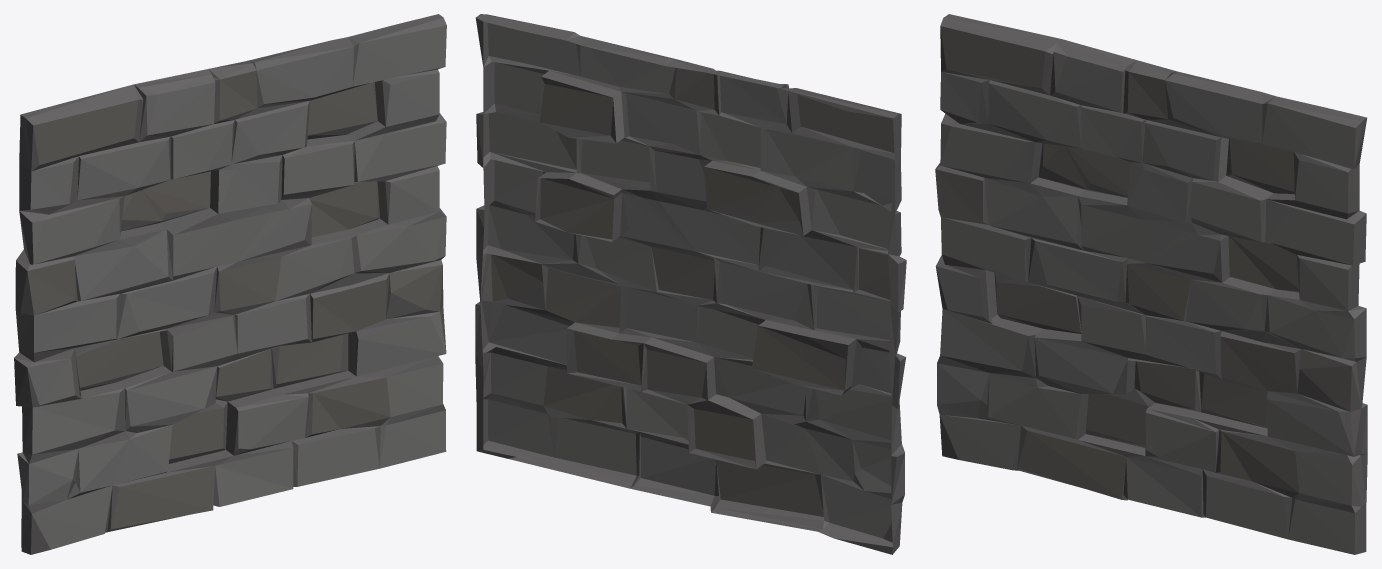
The model's file is SM_Env_Wall_Culled_04.FBX.
The picture shows the model from 3 angles, left to right: view 1: azimuth 30°, elevation 25°; view 2: azimuth 150°, elevation 25°; view 3: azimuth 330°, elevation 25°; orthographic projection.
Visible parts, largest first — view 1: SM_Env_Wall_Culled_04; view 2: SM_Env_Wall_Culled_04; view 3: SM_Env_Wall_Culled_04.
Part boxes in pixels (<box>): SM_Env_Wall_Culled_04: <box>14,14,446,554</box>; SM_Env_Wall_Culled_04: <box>475,14,906,554</box>; SM_Env_Wall_Culled_04: <box>935,14,1367,554</box>.
Size of what is drawn, in the model's own units: 518 by 24.9 by 513.
